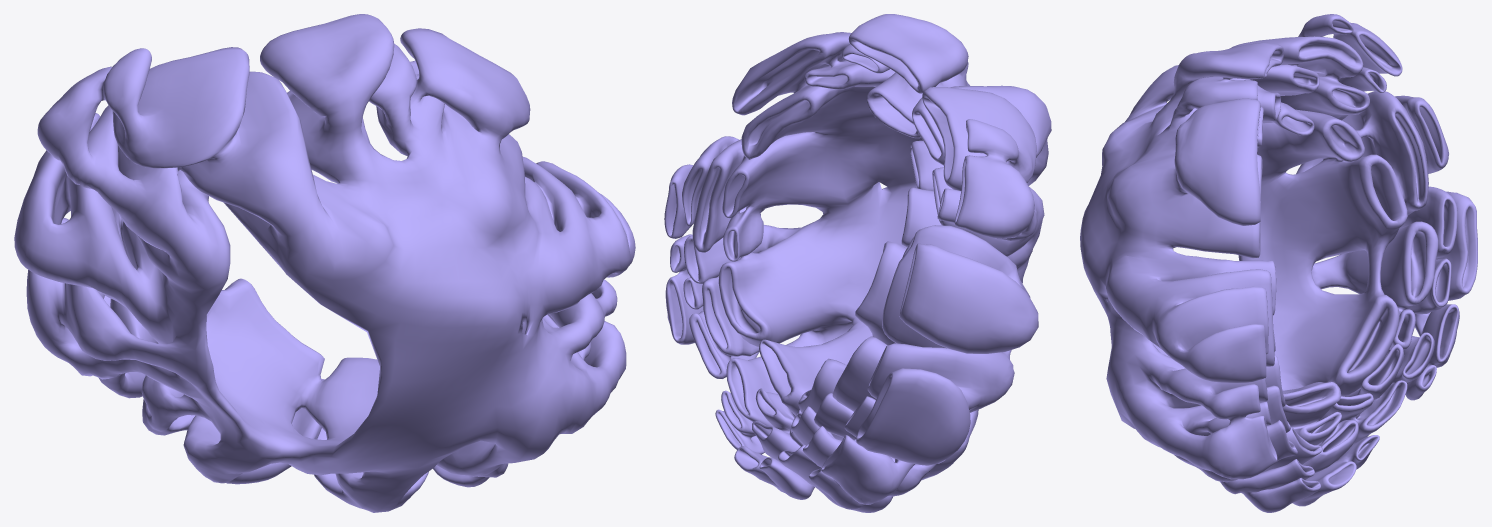
The model's file is Rough_ER.fbx.
3 views of the same model, side by side, from view 1: azimuth 30°, elevation 25°; view 2: azimuth 150°, elevation 25°; view 3: azimuth 270°, elevation 25° (orthographic). The views are drawn at different scales.
Parts seen in each view (by area): view 1: Rough_Endoplasmic_reticulum; view 2: Rough_Endoplasmic_reticulum; view 3: Rough_Endoplasmic_reticulum.
Part boxes in pixels (left/top/right/bottom): Rough_Endoplasmic_reticulum: left=14, top=14, right=635, bottom=512; Rough_Endoplasmic_reticulum: left=664, top=14, right=1051, bottom=512; Rough_Endoplasmic_reticulum: left=1080, top=14, right=1477, bottom=512.
Bounding box in the file's own units: 2084 × 2073 × 1762.
